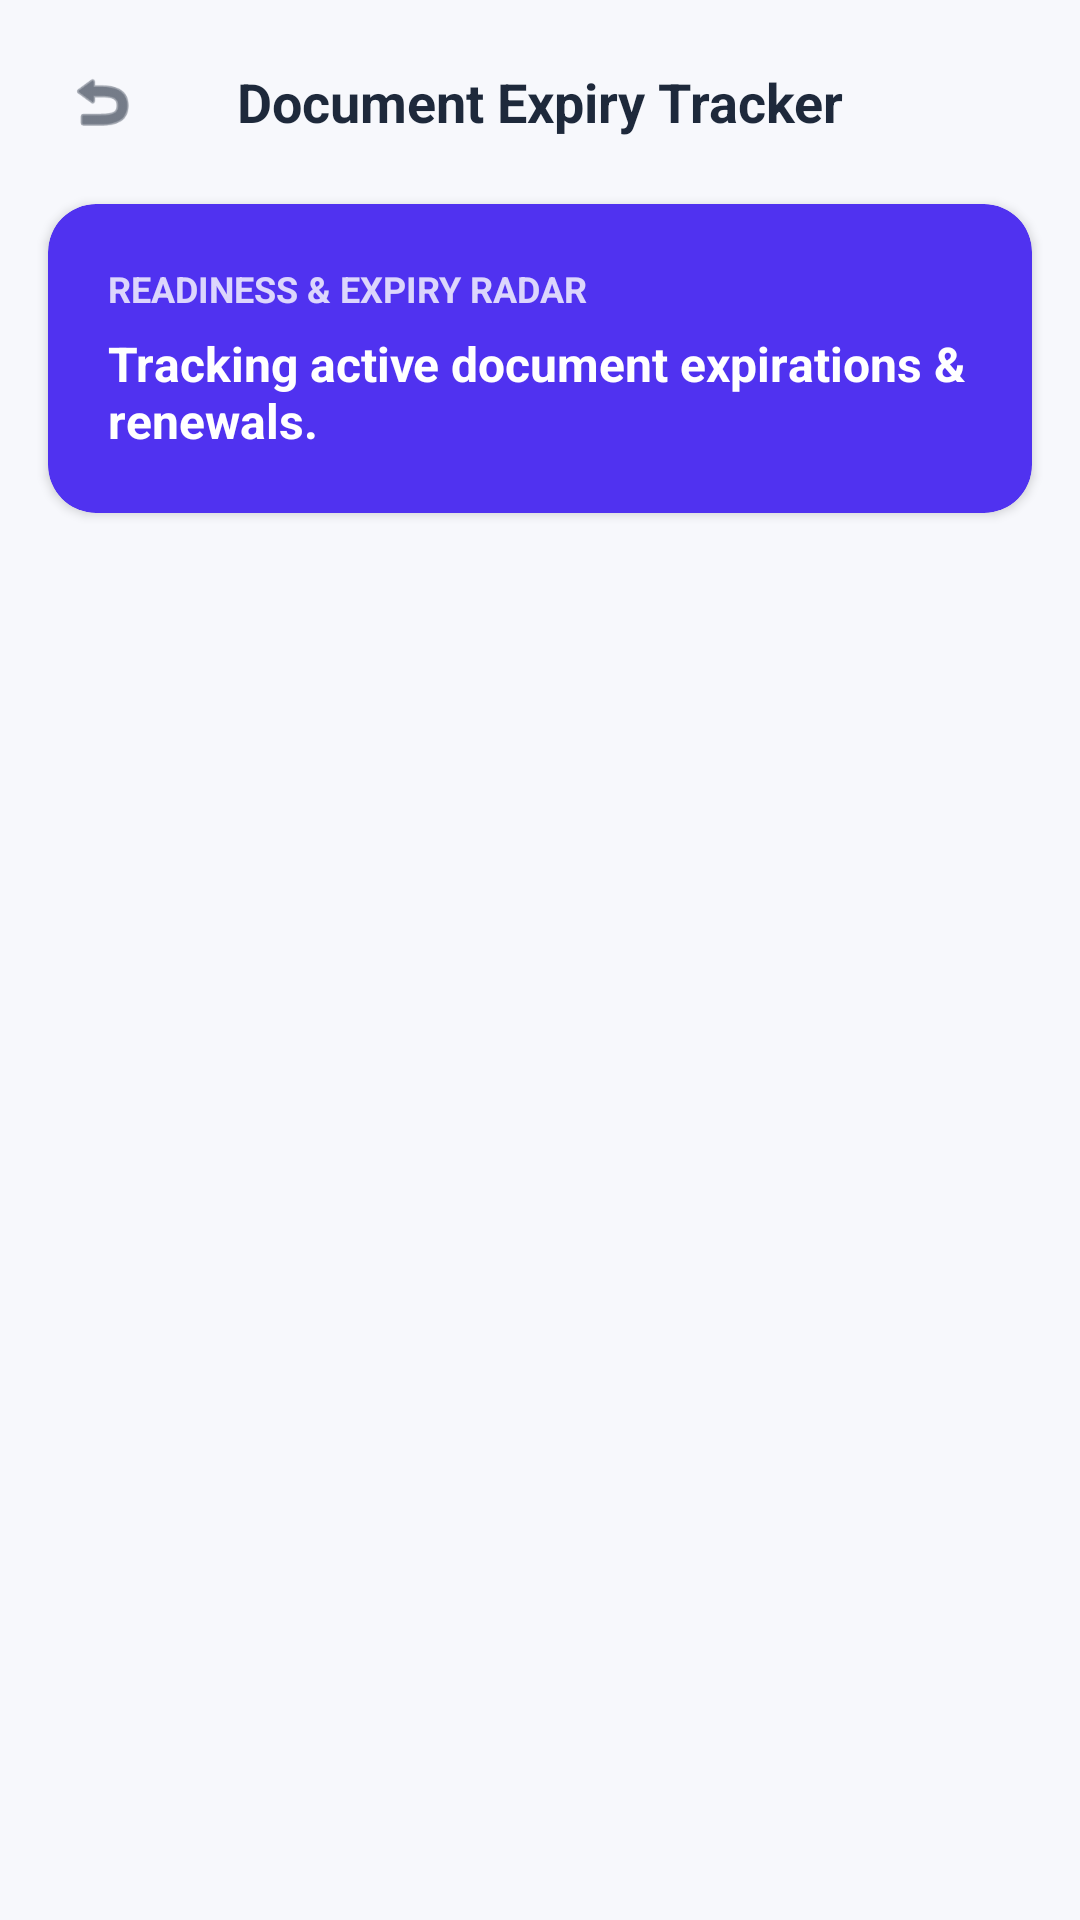

Screen size 1080 × 1920. Icon name, then its box in pixels as (x1, y1, x2, y2):
Back: (77, 79, 129, 126)
